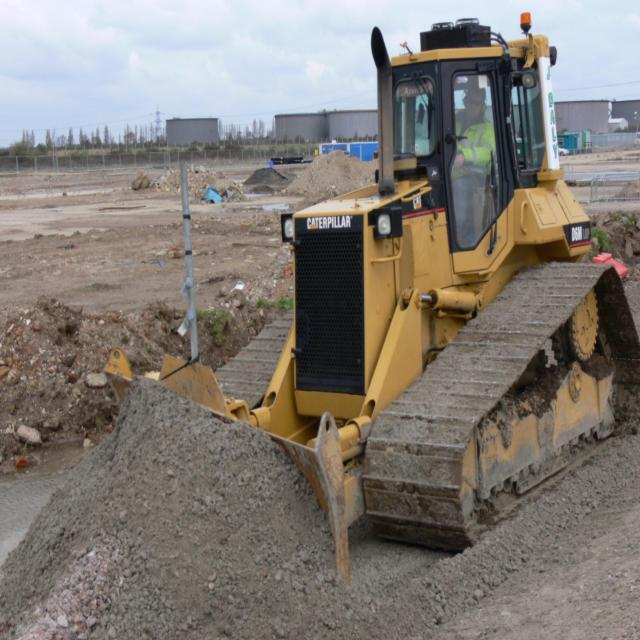Bulldozer: (102, 24, 640, 577)
